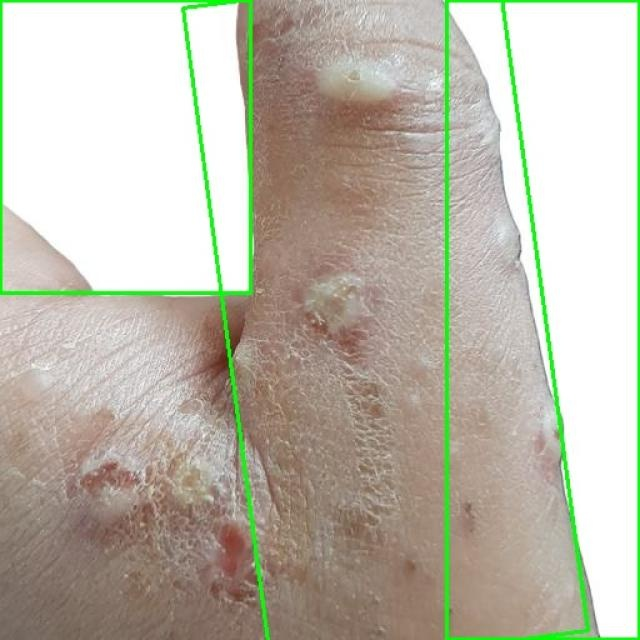Scabies: (183, 0, 588, 640), (446, 0, 639, 639), (0, 0, 251, 294)
